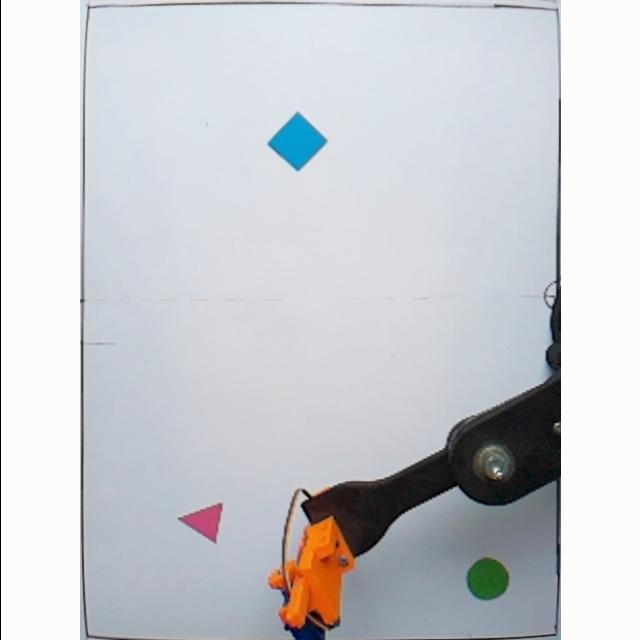blueSquare: (266, 111, 328, 172)
greenCircle: (466, 556, 510, 600)
pinkTriangle: (178, 504, 224, 544)
